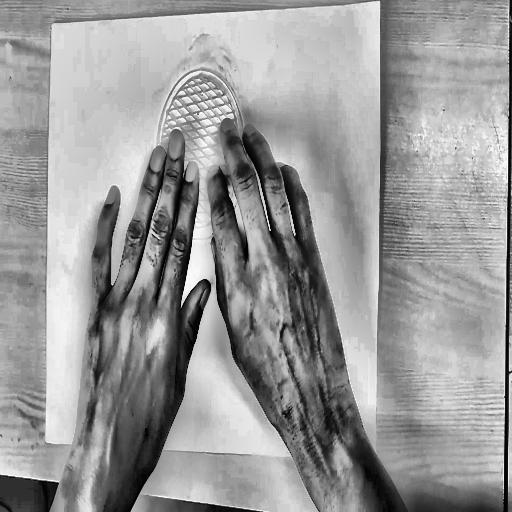badminton: (106, 53, 305, 436)
bottom_left: (42, 433, 50, 446)
bottom_right: (369, 450, 380, 470)
top_left: (50, 20, 55, 30)
top_right: (374, 0, 382, 10)
